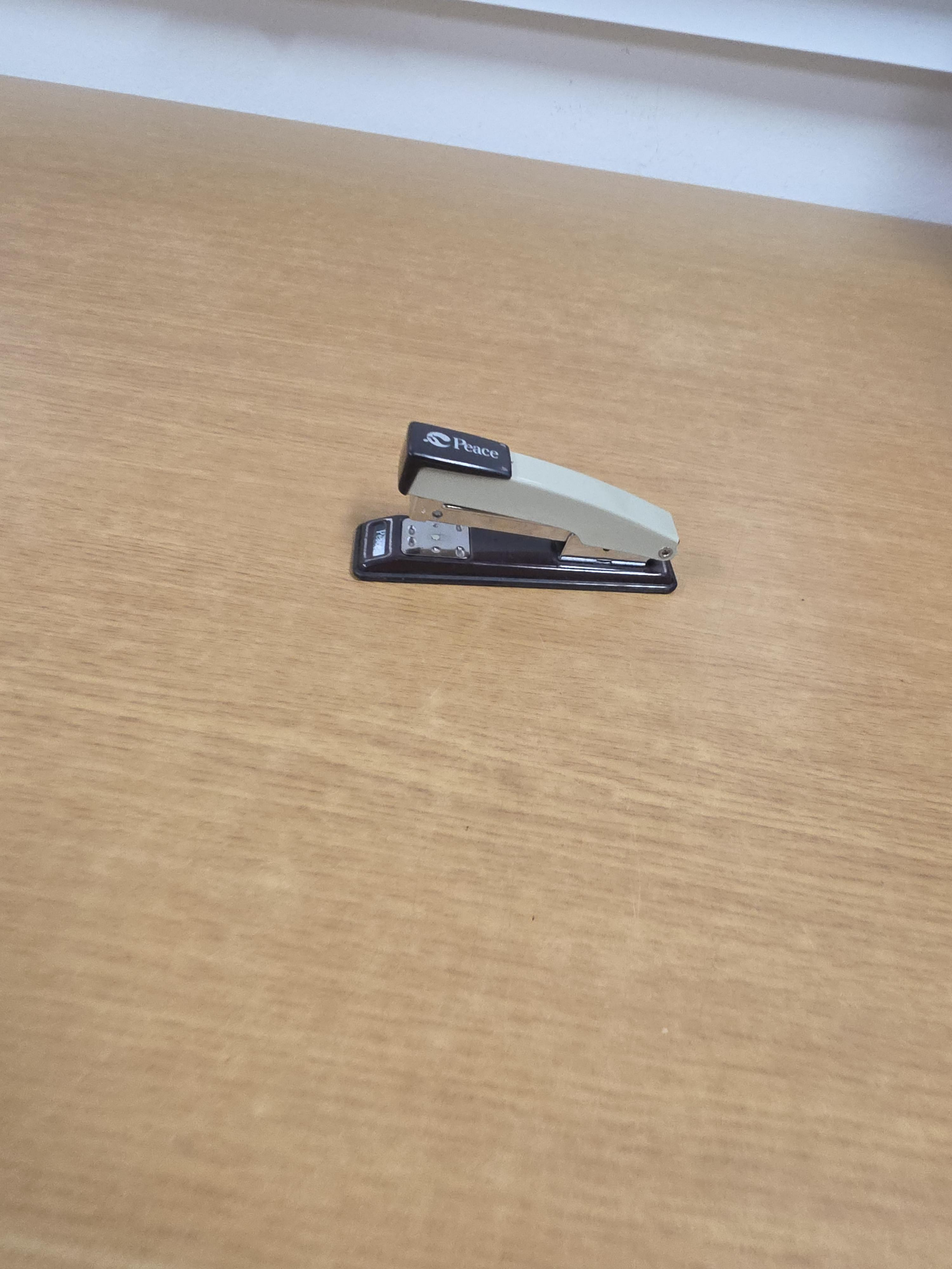stapler: (350, 421, 680, 595)
